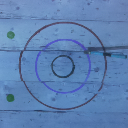Axe Tip: (87, 49, 99, 52)
